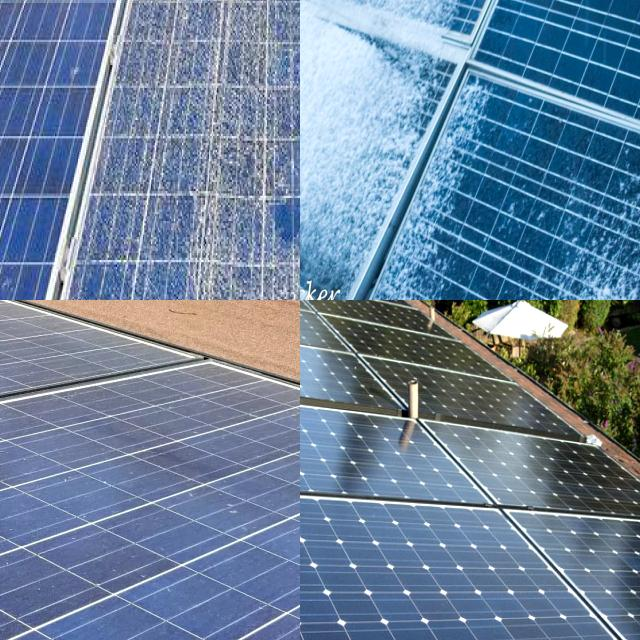crack: (300, 469, 625, 640), (300, 380, 498, 527), (424, 418, 640, 529), (300, 310, 435, 416), (320, 304, 502, 382)
dust: (0, 399, 117, 522), (142, 388, 260, 489), (88, 556, 223, 640), (0, 540, 76, 640), (0, 443, 61, 542)
panel: (393, 43, 485, 300), (309, 0, 505, 120), (300, 11, 385, 263), (300, 16, 360, 300), (543, 134, 640, 300)
